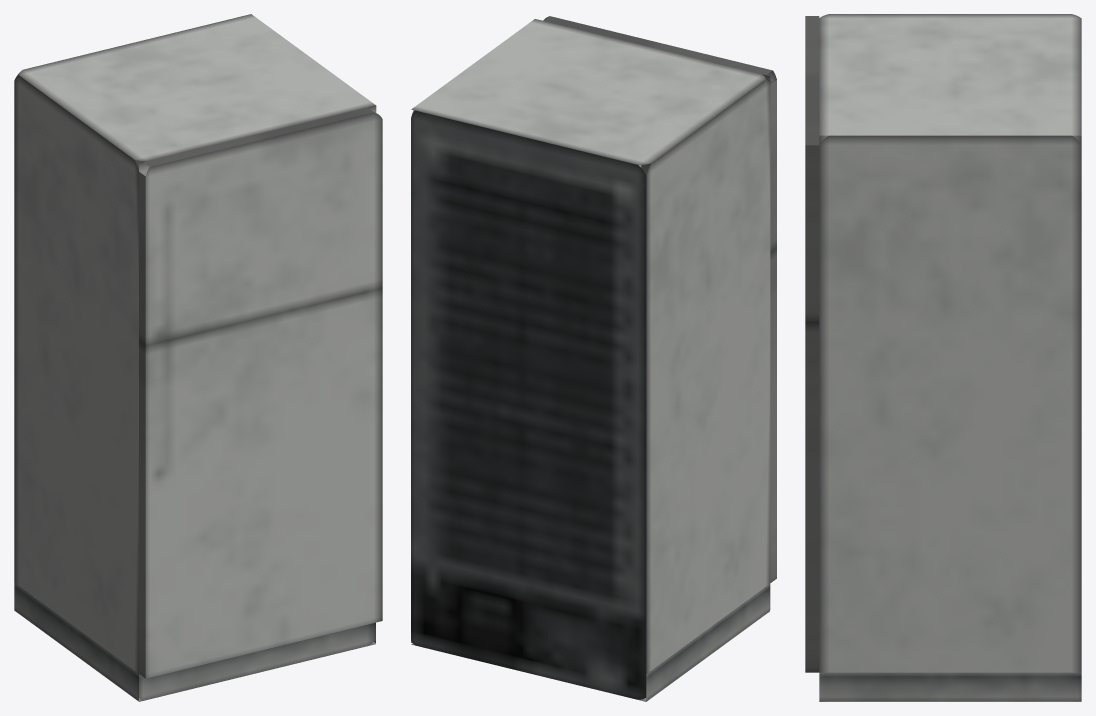
Rendered from SM_EC_FridgeFreezer_Complete_0.fbx.
The picture shows the model from 3 angles, left to right: view 1: azimuth 30°, elevation 25°; view 2: azimuth 150°, elevation 25°; view 3: azimuth 270°, elevation 25°; orthographic projection. The views are drawn at different scales.
Parts seen in each view (by area): view 1: SM_EC_FridgeFreezer_Complete_0, SM_EC_FridgeFreezer_Door_1, SM_EC_FridgeFreezer_Door_0; view 2: SM_EC_FridgeFreezer_Complete_0, SM_EC_FridgeFreezer_Door_0, SM_EC_FridgeFreezer_Door_1; view 3: SM_EC_FridgeFreezer_Complete_0, SM_EC_FridgeFreezer_Door_1, SM_EC_FridgeFreezer_Door_0.
Boxes of the visible parts, box(x1,y1,x2,y2) form: SM_EC_FridgeFreezer_Complete_0: box(14, 14, 376, 701); SM_EC_FridgeFreezer_Door_1: box(139, 286, 382, 678); SM_EC_FridgeFreezer_Door_0: box(139, 107, 382, 343); SM_EC_FridgeFreezer_Complete_0: box(411, 19, 770, 701); SM_EC_FridgeFreezer_Door_0: box(543, 16, 776, 250); SM_EC_FridgeFreezer_Door_1: box(770, 246, 776, 582); SM_EC_FridgeFreezer_Complete_0: box(819, 14, 1081, 701); SM_EC_FridgeFreezer_Door_1: box(805, 320, 819, 672); SM_EC_FridgeFreezer_Door_0: box(805, 16, 819, 319).
Bounding box in the file's own units: 0.8274 × 0.7946 × 1.8.
